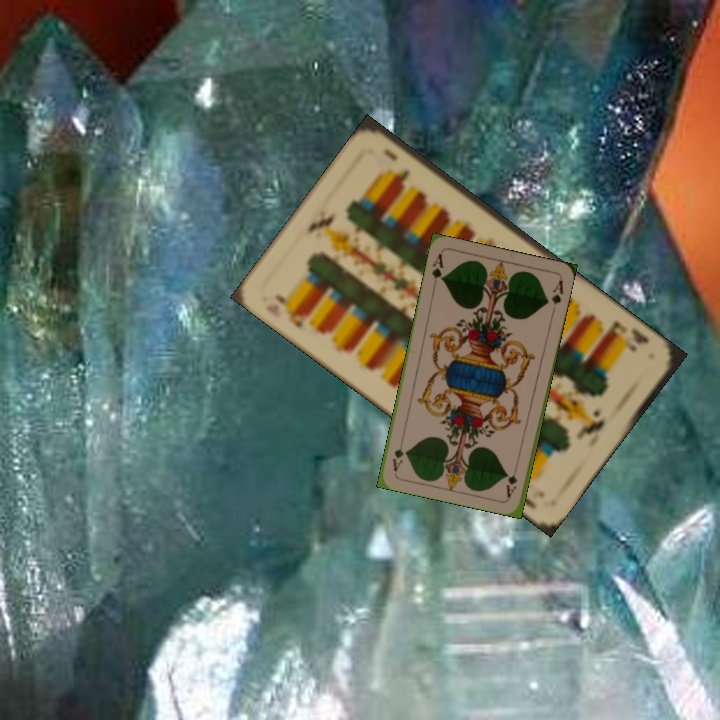E10: (601, 317, 652, 355), (271, 290, 311, 331)
GA: (428, 249, 446, 290), (503, 460, 520, 500)
